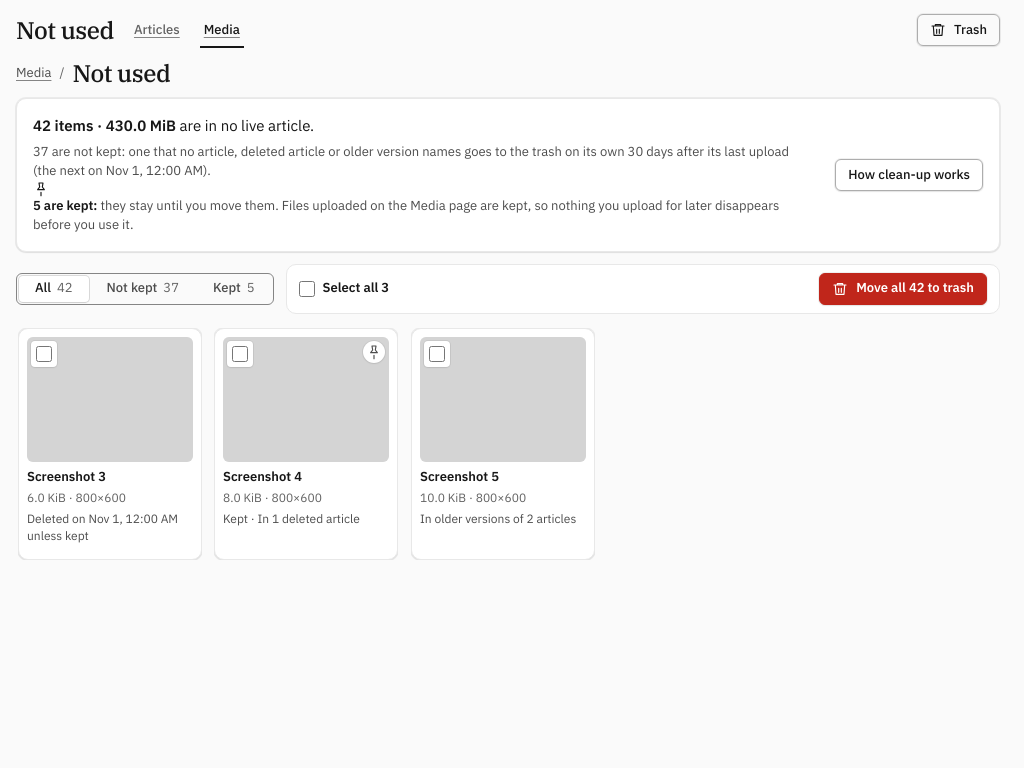
Test: move all unused asks again with batch_id until nothing is left, skipping what was uploaded after the page opened
// Not kept: only the items nobody kept go.
Click the radio button labelled "Not kept 37".
click(143, 288)  # box [106,279,179,296]
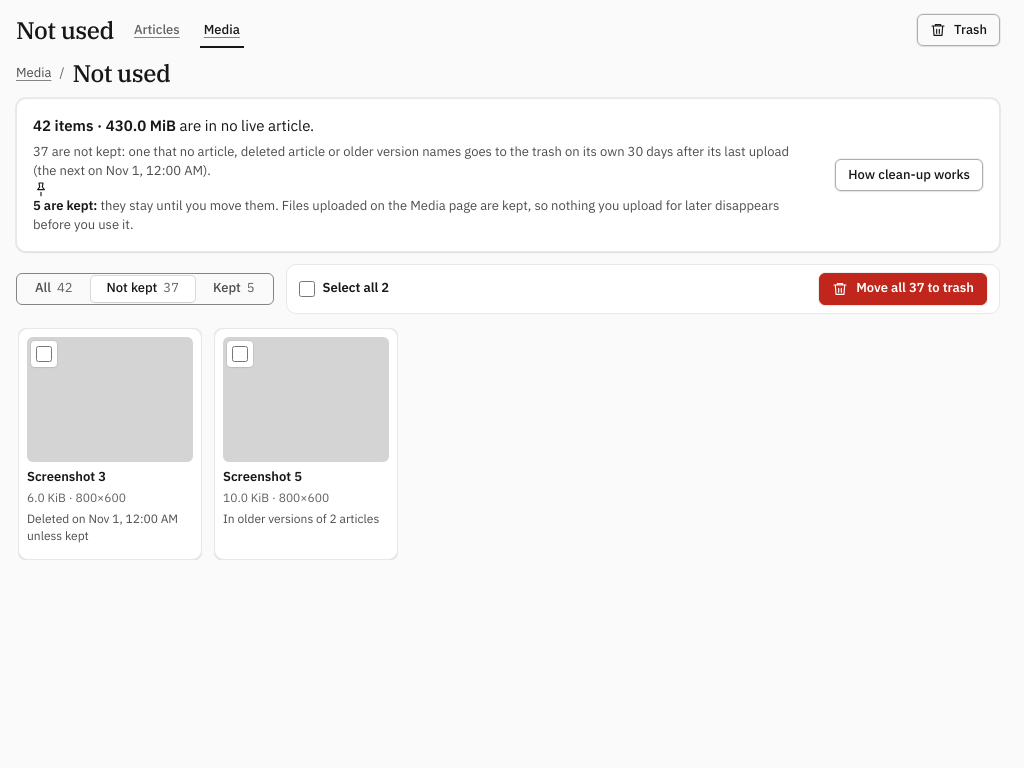
Click the button "Move all 37 to trash".
click(903, 288)  # box [819,272,987,304]
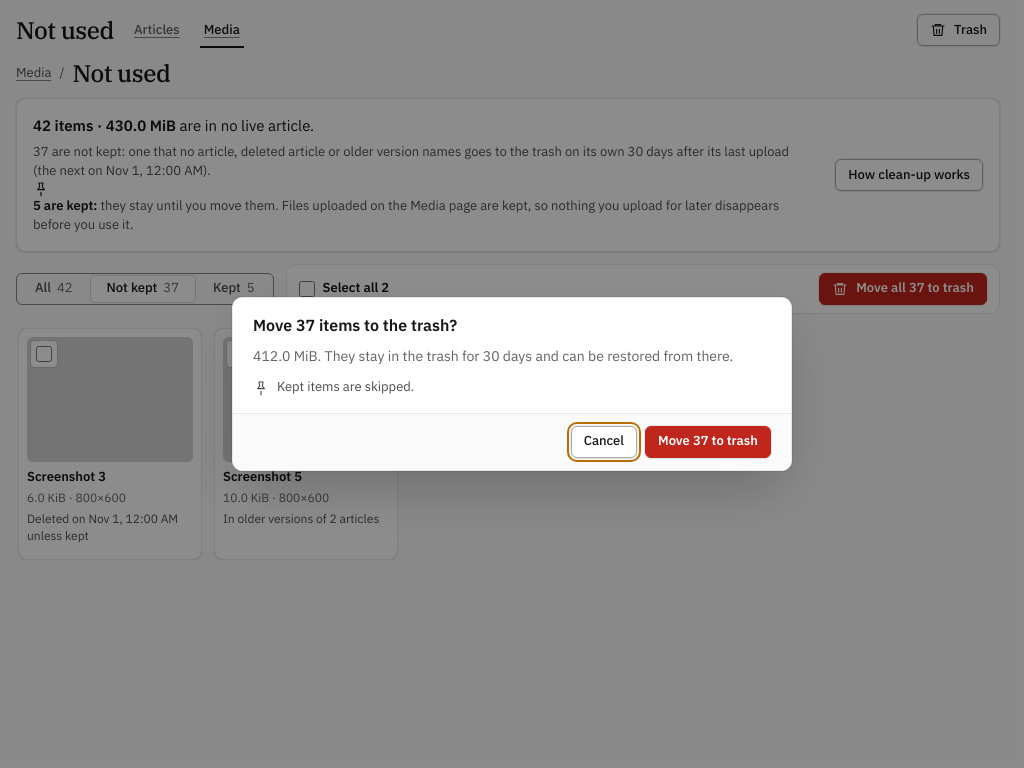
Check: the dialog "Move 37 items to the trash?" shows "412.0 MiB.", box [253,346,733,364]
Check: the dialog "Move 37 items to the trash?" shows "Kept items are skipped.", box [277,378,414,395]
Click the button "Move 37 to trash".
click(708, 442)  # box [645,426,771,458]
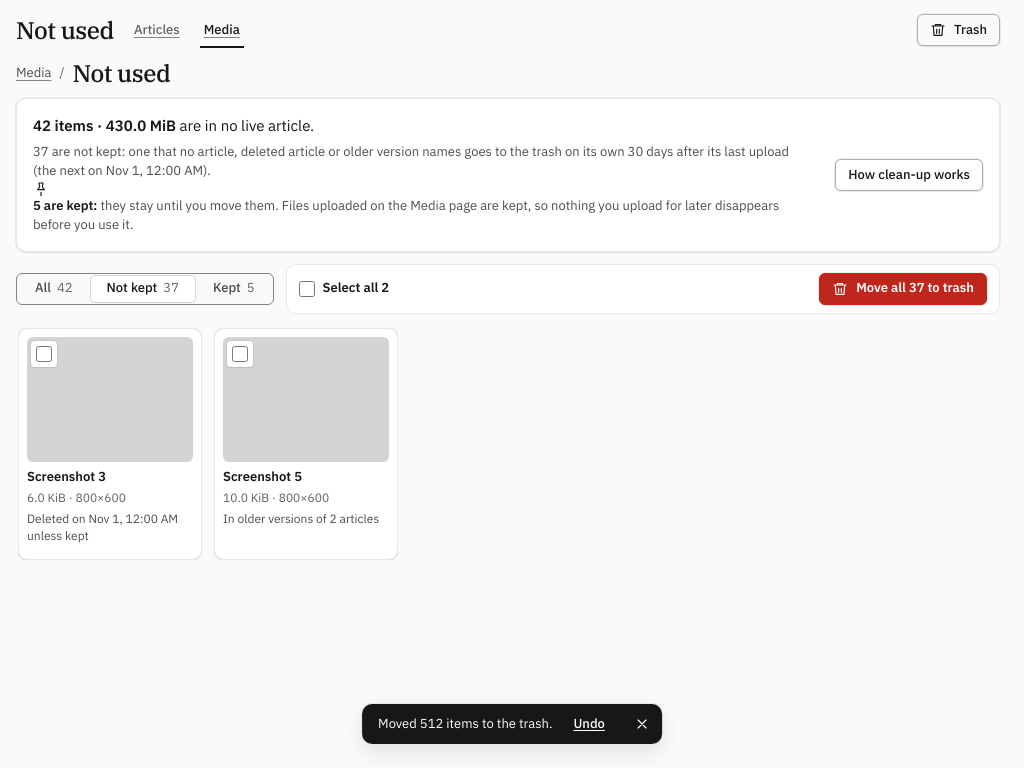
Check: the text "Moved 512 items to the trash." is shown, box [378,715,552,733]
